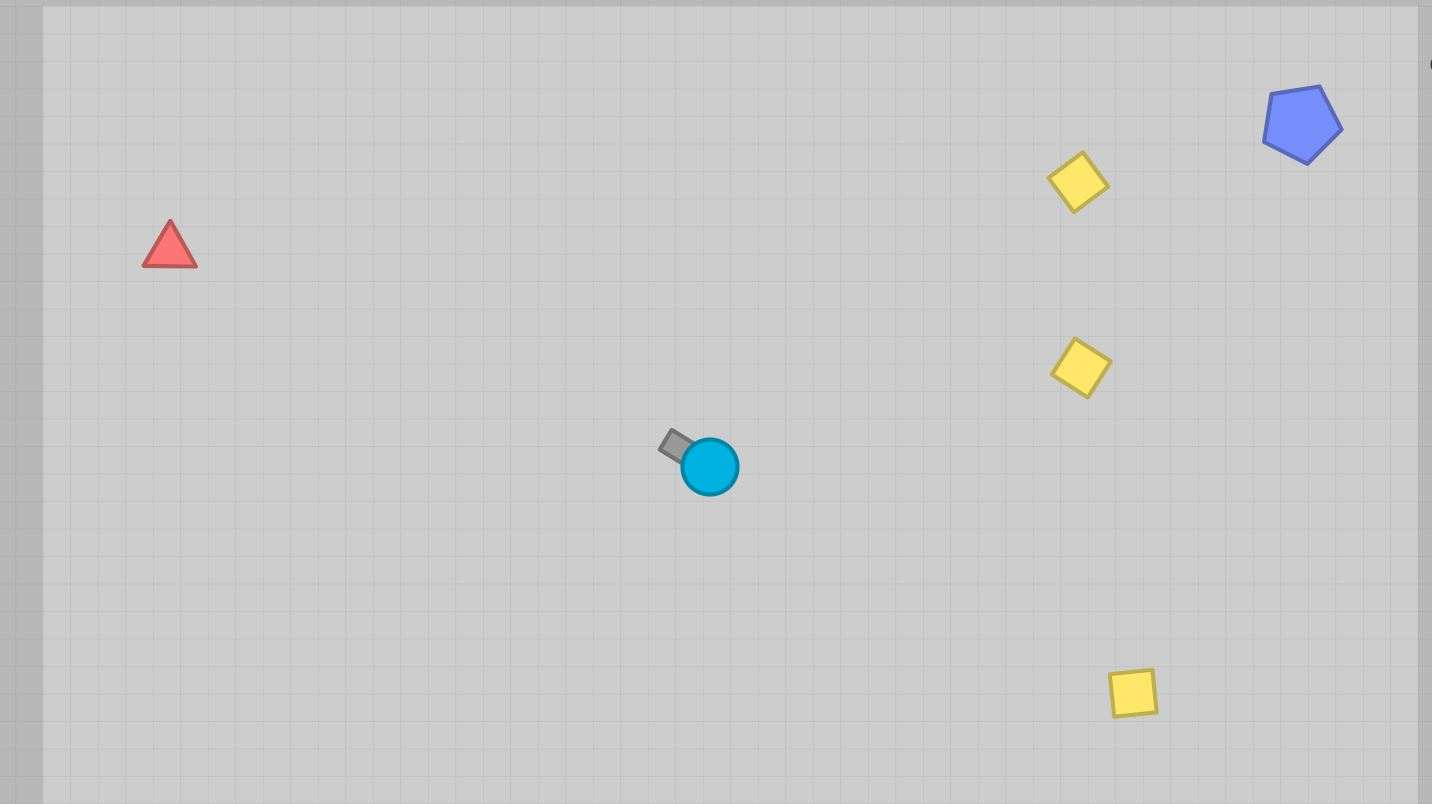Pentagon: (1258, 80, 1345, 168)
Player: (645, 419, 744, 500)
Square: (1040, 147, 1114, 217), (1045, 331, 1116, 403), (1103, 661, 1163, 721)
Triangle: (135, 211, 203, 273)
